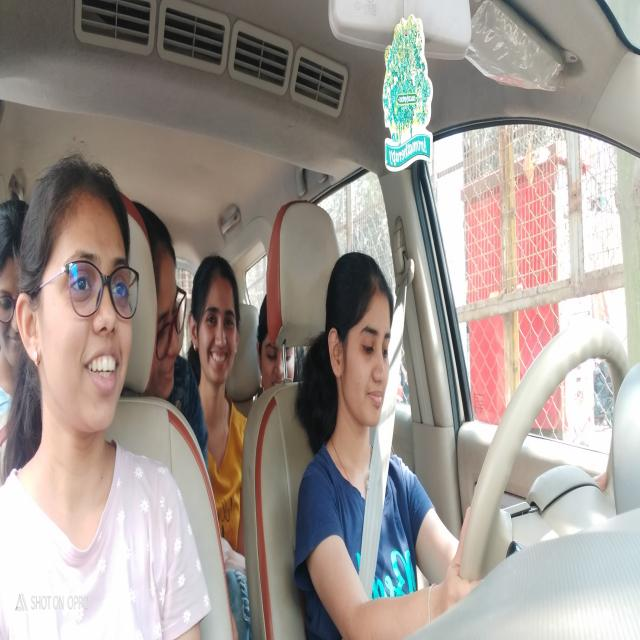drowsy: (327, 254, 397, 426)
person: (16, 174, 138, 416), (143, 208, 188, 408), (194, 256, 246, 396), (0, 194, 28, 375), (256, 277, 289, 391)
